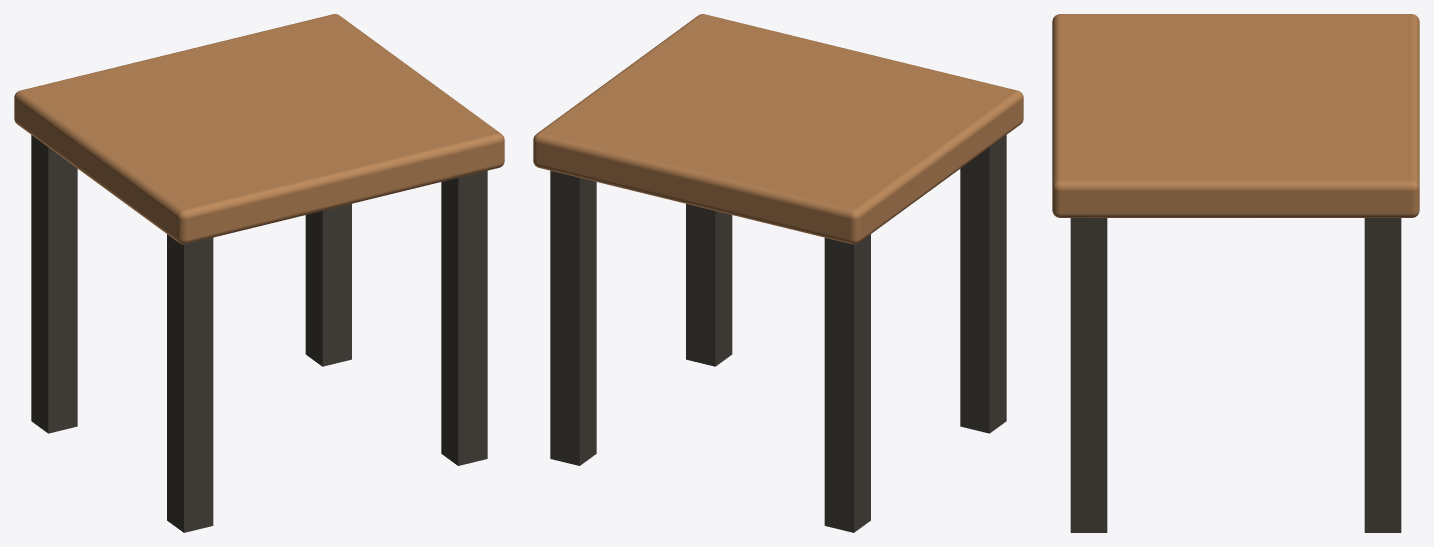
File: table.glb
3 views of the same model, side by side, from view 1: azimuth 30°, elevation 25°; view 2: azimuth 150°, elevation 25°; view 3: azimuth 270°, elevation 25° (orthographic). The views are drawn at different scales.
Bounding box in the file's own units: 1 × 0.96 × 0.9.
